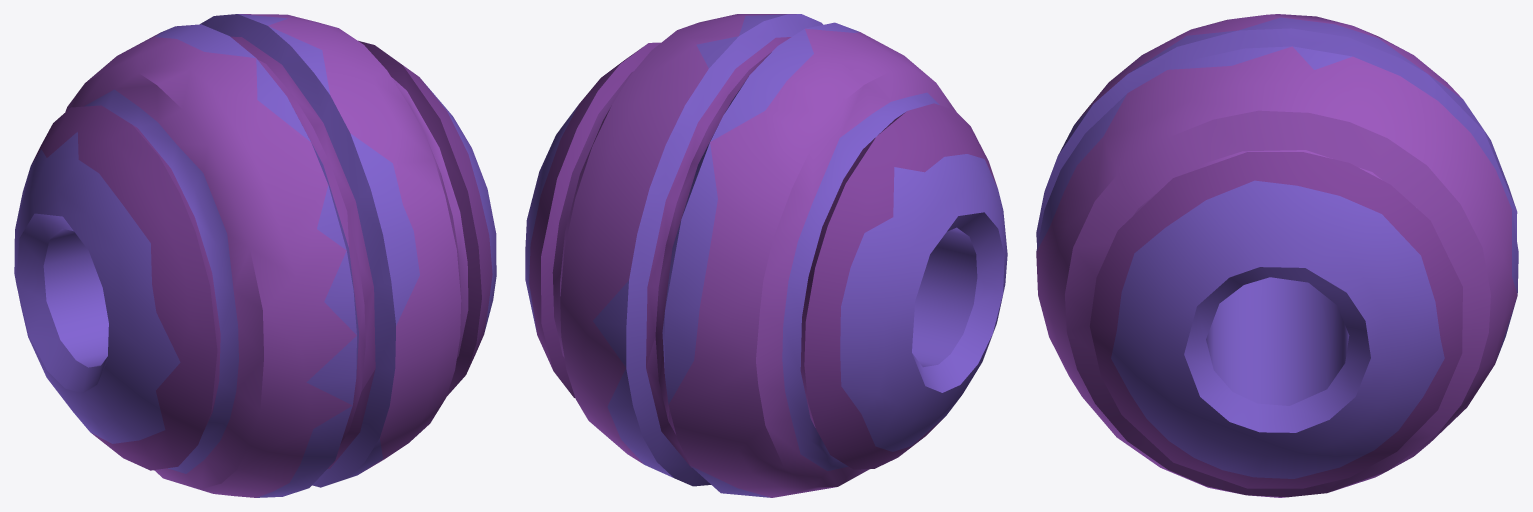
The model's file is Planet-5zzi8WUMXj.glb.
3 renders of one model, left to right at view 1: azimuth 30°, elevation 25°; view 2: azimuth 150°, elevation 25°; view 3: azimuth 270°, elevation 25°, orthographic.
Visible parts, largest first — view 1: Planet_8; view 2: Planet_8; view 3: Planet_8.
Part boxes in pixels (<box>): Planet_8: <box>14,14,496,497</box>; Planet_8: <box>525,14,1007,497</box>; Planet_8: <box>1036,14,1518,497</box>.
Size of the model in its own units: 3.45 by 3.75 by 3.75.
Materials: 1 (1 with a texture image).
